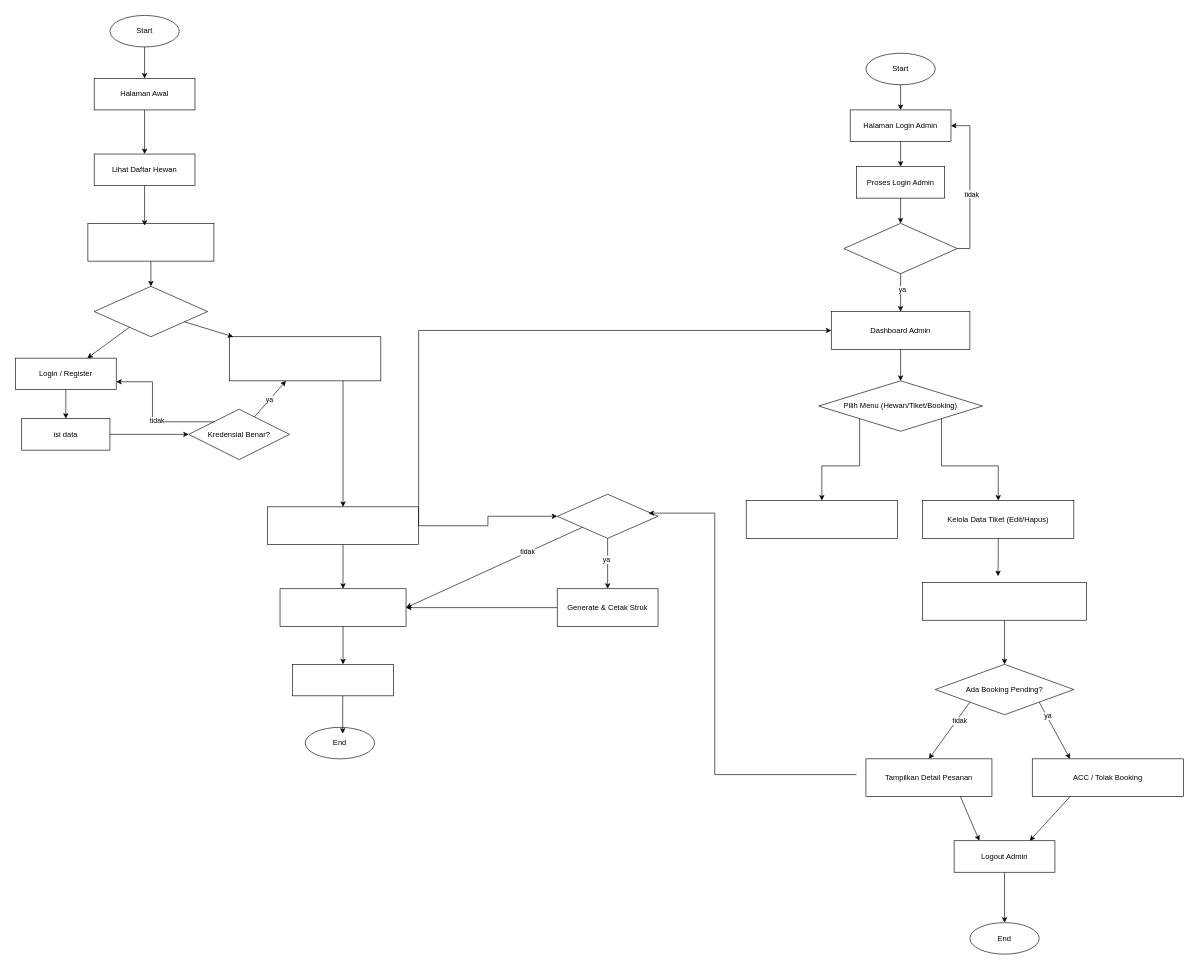
The diagram is 1194 pixels wide and 965 high, and some of its shapes have lost their labels. Each missing label, with the centre of its shape:
"Cetak Struk / Tiket?" goes at pixel 607 516.
"Isi Form Booking (tanggal, jumlah, jenis)" goes at pixel 305 358.
"Kelola Data Hewan (Tambah/Edit/Hapus)" goes at pixel 821 519.
"Kredensial Admin Benar?" goes at pixel 900 248.
"Lihat Riwayat Booking" goes at pixel 342 607.
"Lihat Semua Booking" goes at pixel 1004 601.
"Logout" goes at pixel 342 680.
"Pilih Tiket / Lanjut Booking" goes at pixel 150 242.
"Submit Booking (status: pending)" goes at pixel 343 525.
"Sudah Login?" goes at pixel 151 311.
